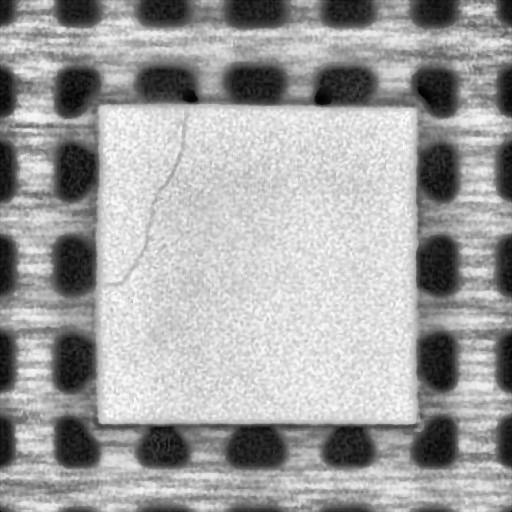DIE_CRACK: (112, 107, 187, 285)
